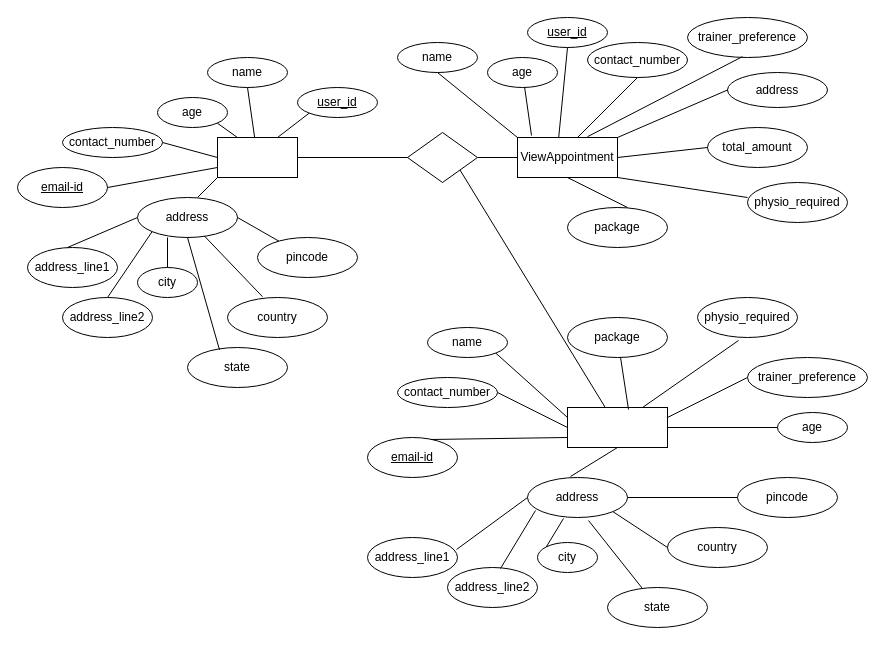
The diagram is 885 pixels wide and 645 high, and some of its shapes have lost their labels. Each missing label, with the box of its shape:
can: (406, 132, 478, 182)
PostAppointment: (566, 406, 668, 448)
User: (216, 136, 298, 178)
